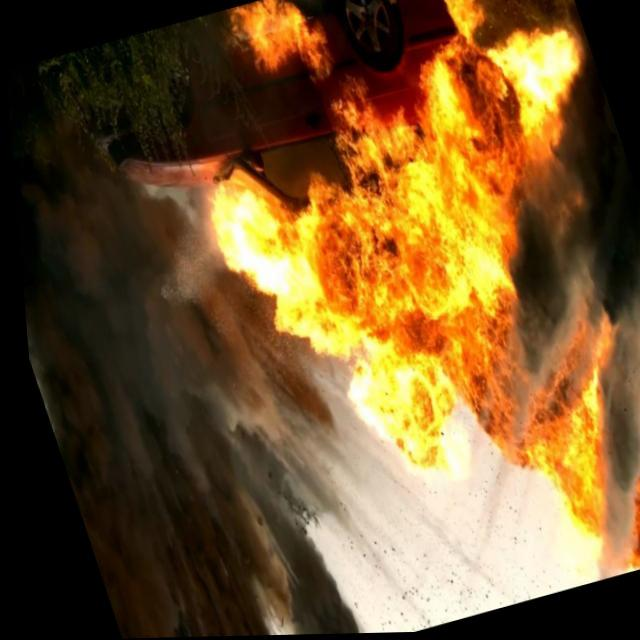fire: (110, 1, 640, 600)
